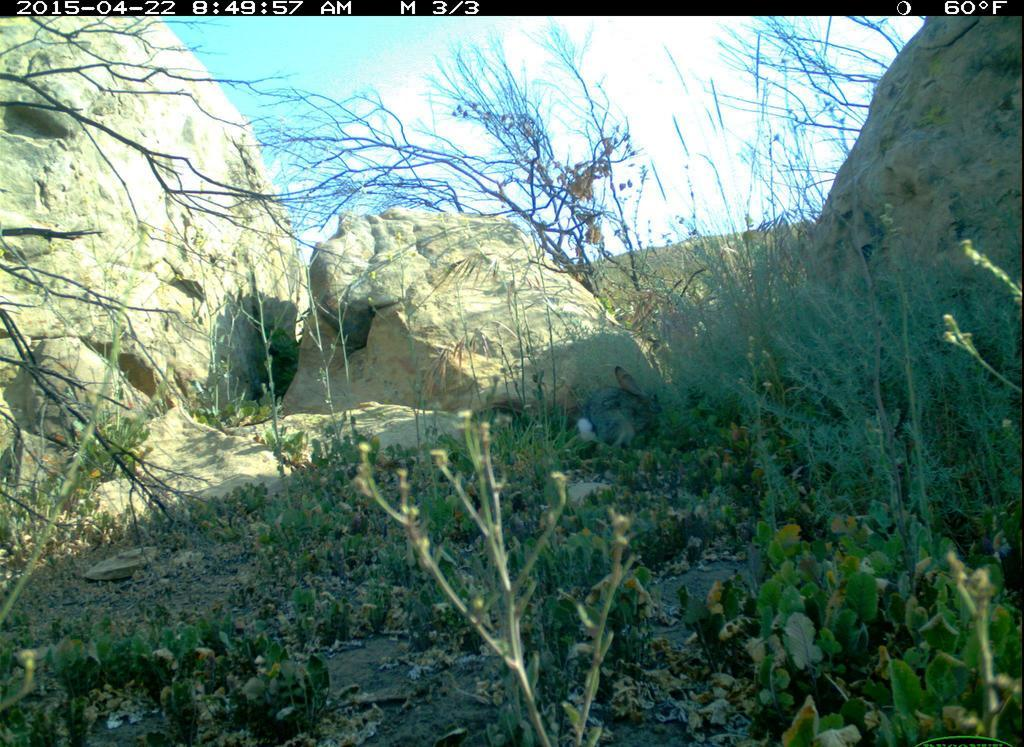rabbit: (571, 361, 684, 460)
